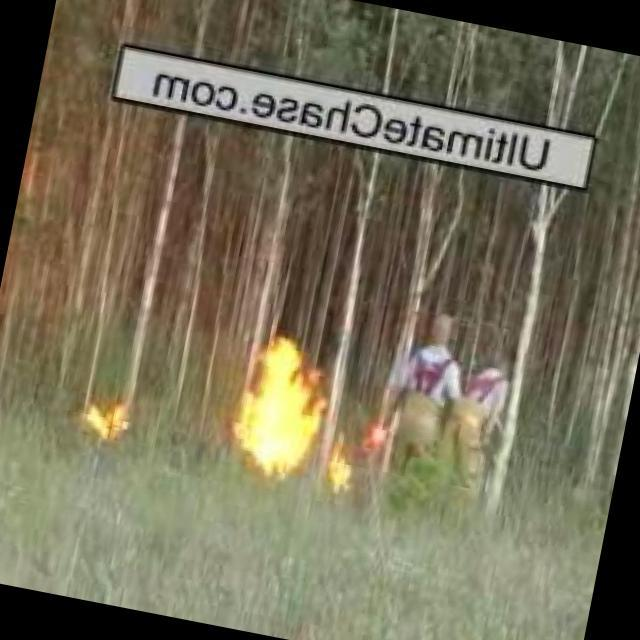Fire: (219, 332, 335, 485), (322, 437, 364, 496), (84, 397, 129, 446)
